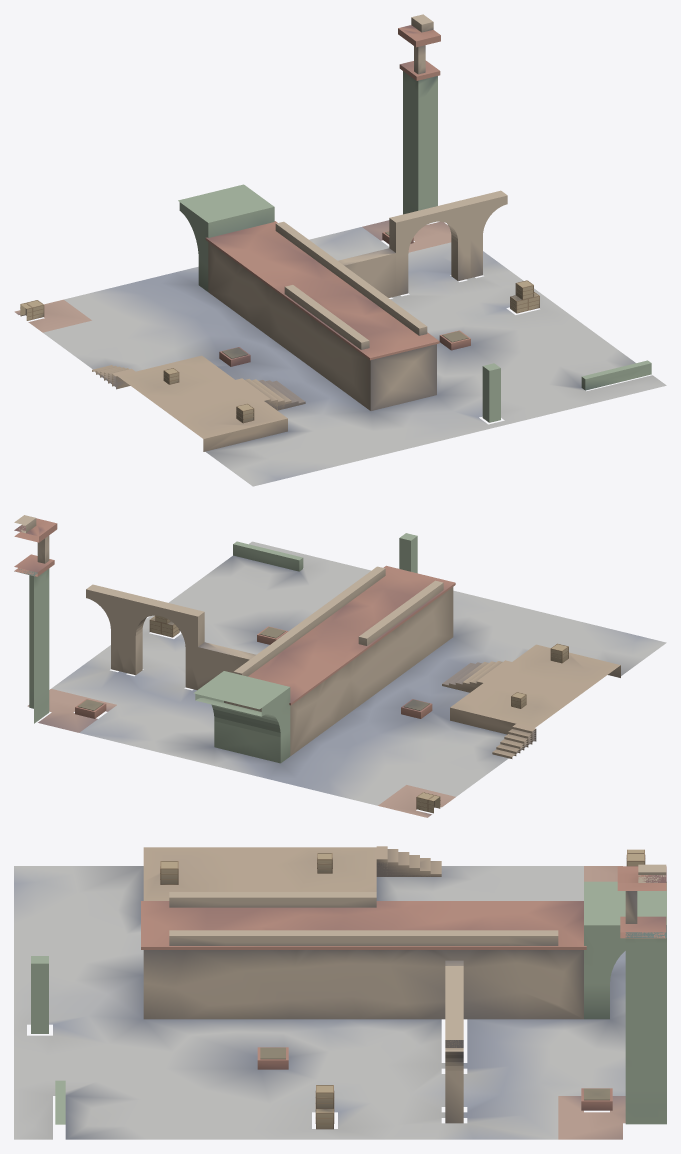
3 renders of one model, top to bottom at view 1: azimuth 30°, elevation 25°; view 2: azimuth 150°, elevation 25°; view 3: azimuth 270°, elevation 25°, orthographic. The views are drawn at different scales.
Parts seen in each view (by area): view 1: t; view 2: t; view 3: t.
Part boxes in pixels (x1,y1,x2,y2): t: [14, 14, 666, 486]; t: [14, 515, 666, 817]; t: [14, 846, 666, 1139].
Bounding box in the file's own units: 50.4 × 22.6 × 50.4.
